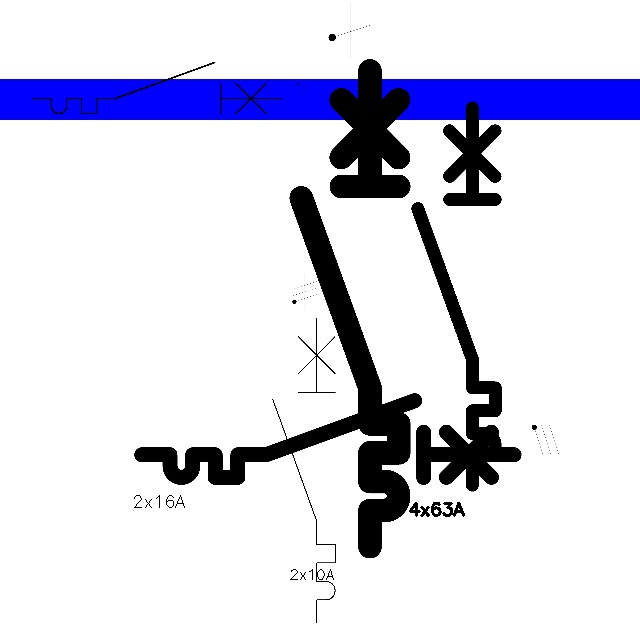interruptor_termomagnetico: (289, 58, 411, 558), (408, 98, 505, 495), (132, 391, 524, 487), (265, 310, 343, 630), (26, 56, 287, 120)
